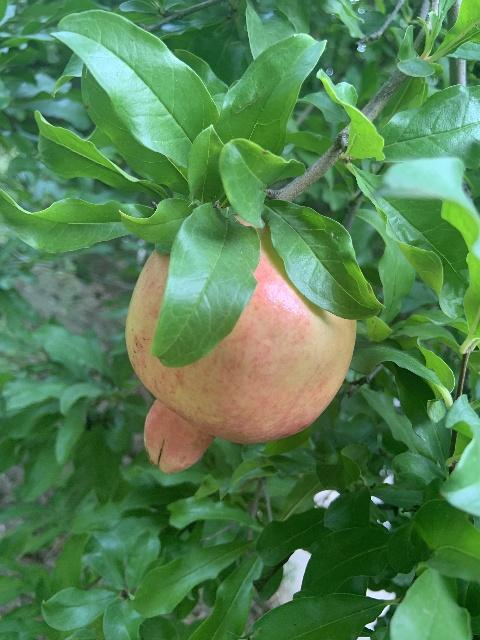ripe: (126, 210, 354, 478)
